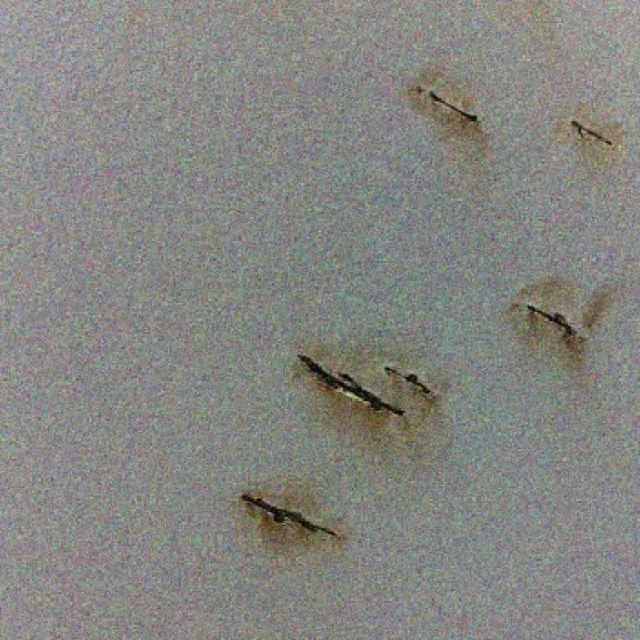crack: (302, 358, 402, 418), (243, 497, 340, 532), (529, 306, 582, 334), (384, 368, 436, 392), (434, 91, 478, 115), (572, 120, 614, 143)
